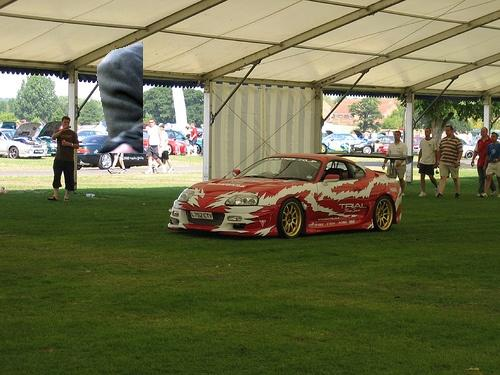tampered: (97, 43, 143, 153)
